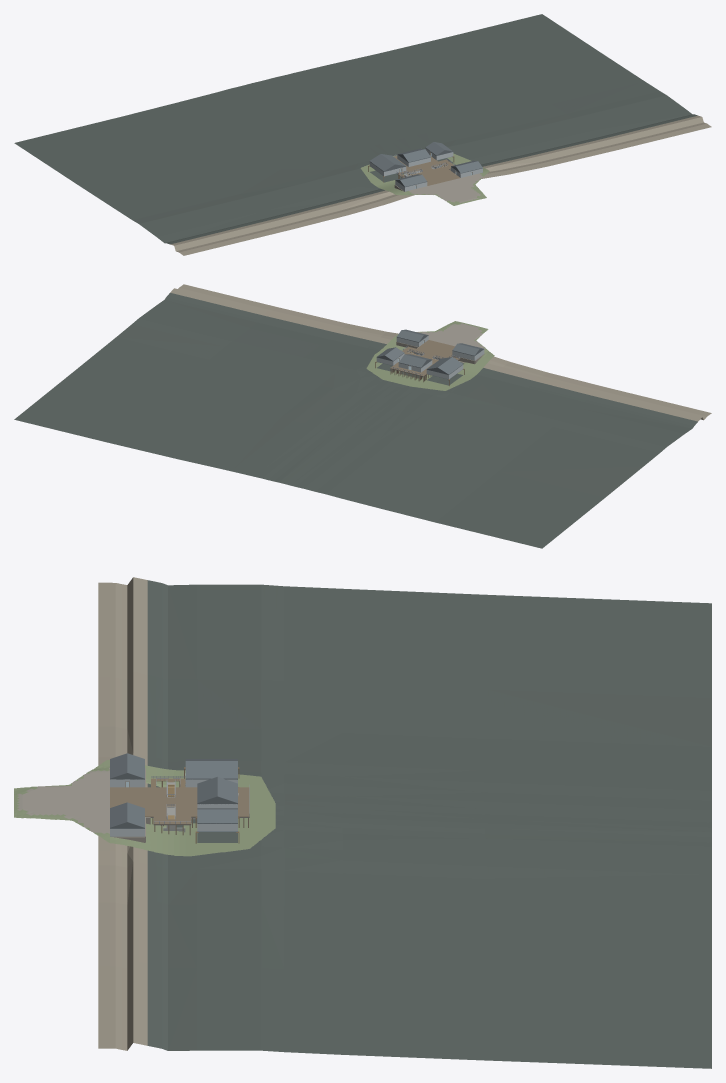
File: tidal-wharf.glb
The picture shows the model from 3 angles, top to bottom: view 1: azimuth 30°, elevation 25°; view 2: azimuth 150°, elevation 25°; view 3: azimuth 270°, elevation 25°; orthographic projection. The views are drawn at different scales.
Visible parts, largest first — view 1: Wharf continuous lower tidal bed and shore batter, Saved editor geographic earthworks WLD-06, WLD-06 quay platform structural surface region0; view 2: Wharf continuous lower tidal bed and shore batter, Saved editor geographic earthworks WLD-06, WLD-06 quay platform structural surface region0; view 3: Wharf continuous lower tidal bed and shore batter, Saved editor geographic earthworks WLD-06, WLD-06 quay platform structural surface region0, boathouse roof east.
Boxes of the visible parts, x1,y1,x2,y2 form: Wharf continuous lower tidal bed and shore batter: (14,14,711,255); Saved editor geographic earthworks WLD-06: (360,153,489,205); WLD-06 quay platform structural surface region0: (419,167,459,185); Wharf continuous lower tidal bed and shore batter: (14,284,711,548); Saved editor geographic earthworks WLD-06: (366,321,494,390); WLD-06 quay platform structural surface region0: (414,340,454,357); Wharf continuous lower tidal bed and shore batter: (98,577,711,1068); Saved editor geographic earthworks WLD-06: (14,760,275,856); WLD-06 quay platform structural surface region0: (110,787,162,817); boathouse roof east: (185,761,237,779).
Size of the model in its own units: 379 by 18.99 by 240.
Materials: 43 (18 with a texture image).
